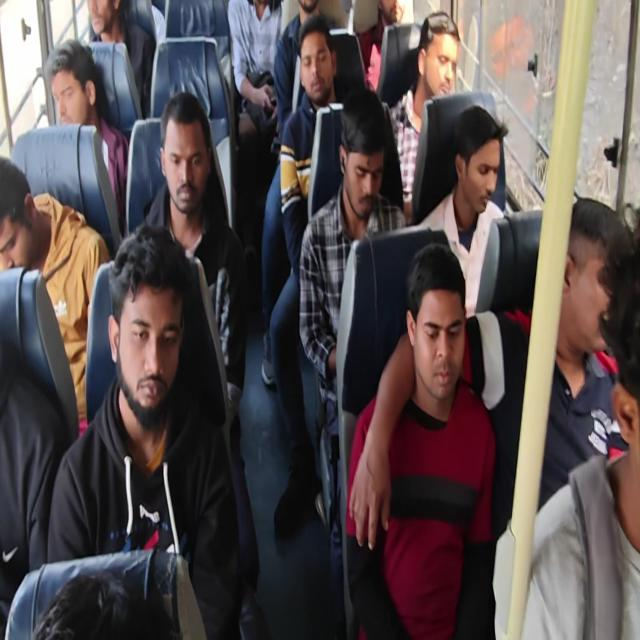person: (94, 228, 192, 424), (36, 551, 182, 640), (560, 191, 616, 358), (607, 200, 640, 471), (410, 243, 461, 410), (448, 91, 502, 230), (158, 83, 213, 217), (0, 134, 44, 282), (341, 92, 388, 219), (46, 41, 106, 136), (294, 17, 343, 110), (421, 4, 464, 100), (84, 2, 122, 38), (378, 0, 406, 26), (297, 0, 321, 14)
